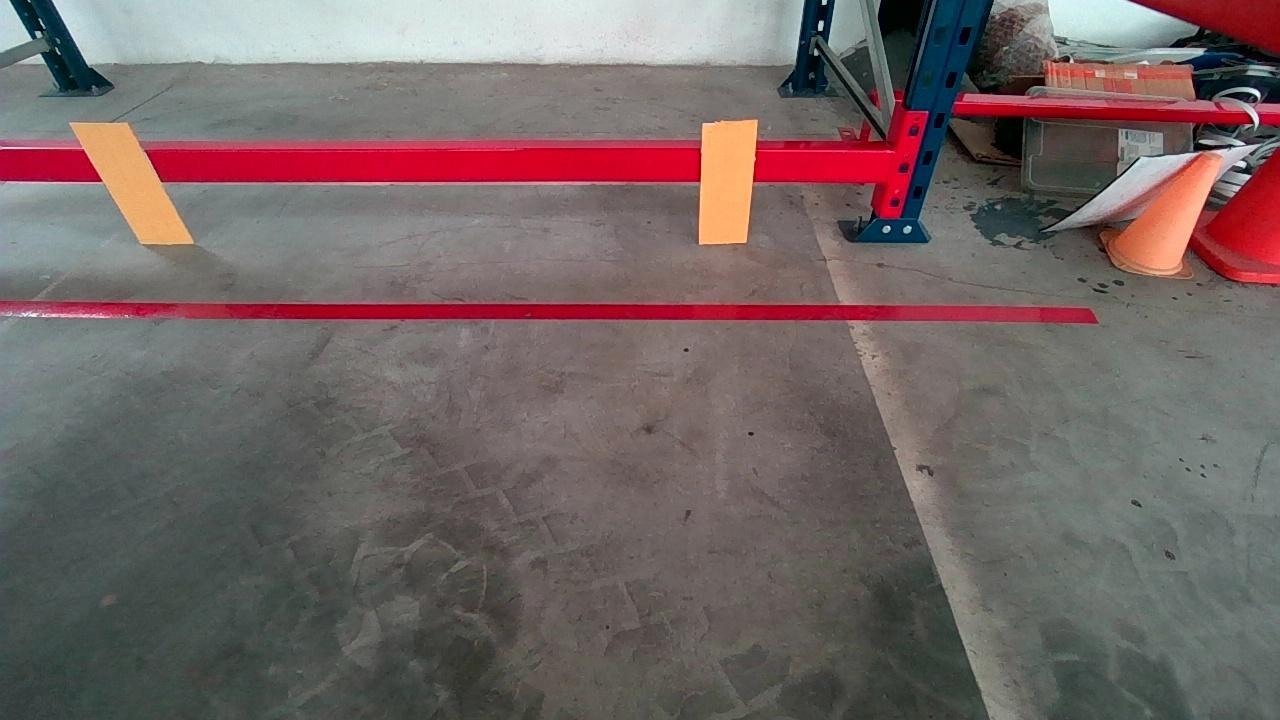h_rack: (9, 144, 894, 189)
orange_strip: (70, 122, 194, 243), (699, 121, 756, 242)
red_line: (0, 297, 1094, 324)
